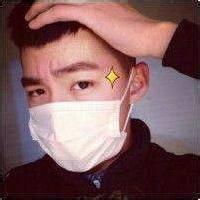face_mask: (14, 30, 122, 169)
